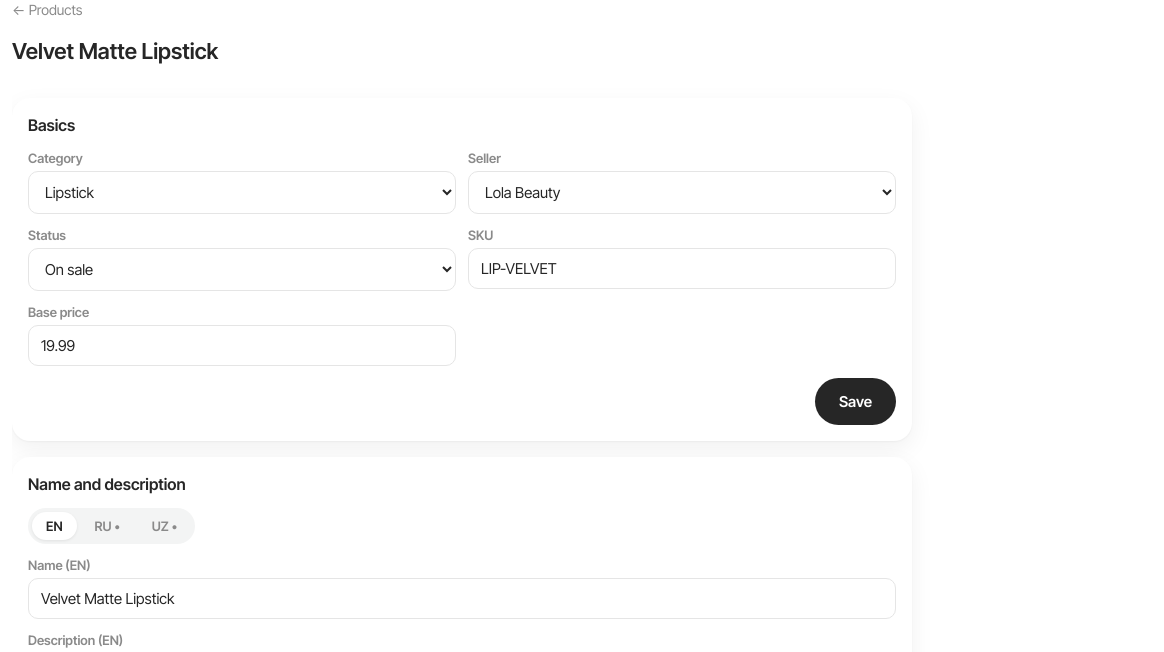
Test: ProductEditorScreen: existing product › sends only the translations that changed, per language
This screenshot has width=1164, height=652.
Click the tab "UZ •" at {"x": 164, "y": 526}, box top-left (138, 512), bottom-right (191, 540)
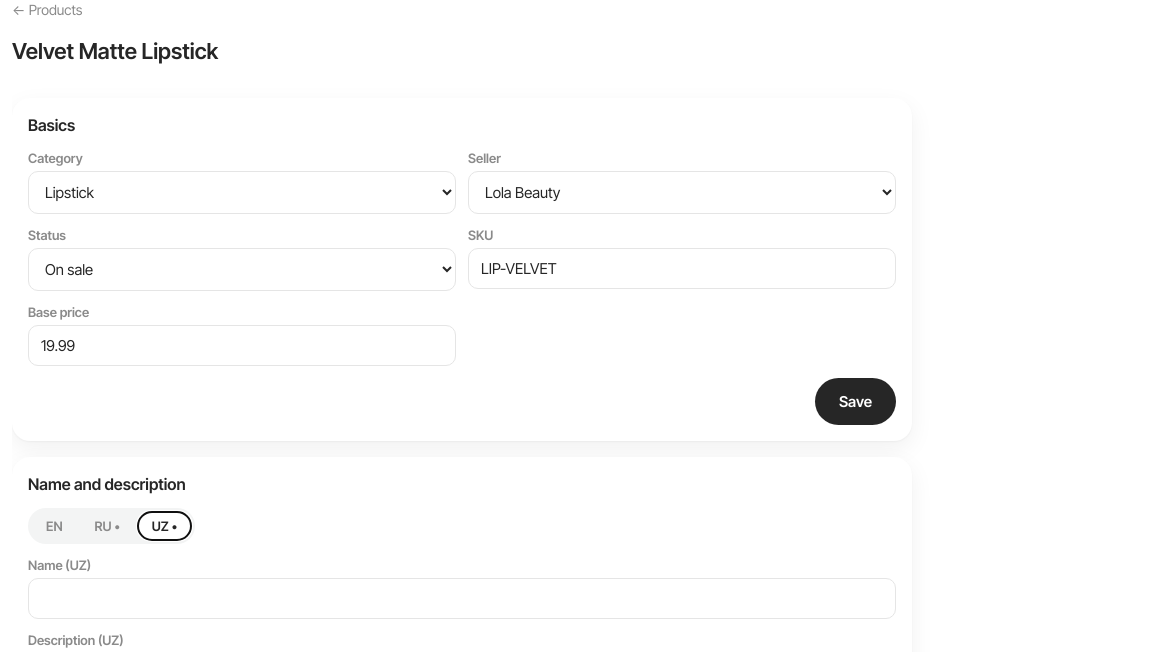
Type "Baxmal pomada" into the field labelled "Name (UZ)" at {"x": 462, "y": 598}, box top-left (28, 578), bottom-right (896, 619)
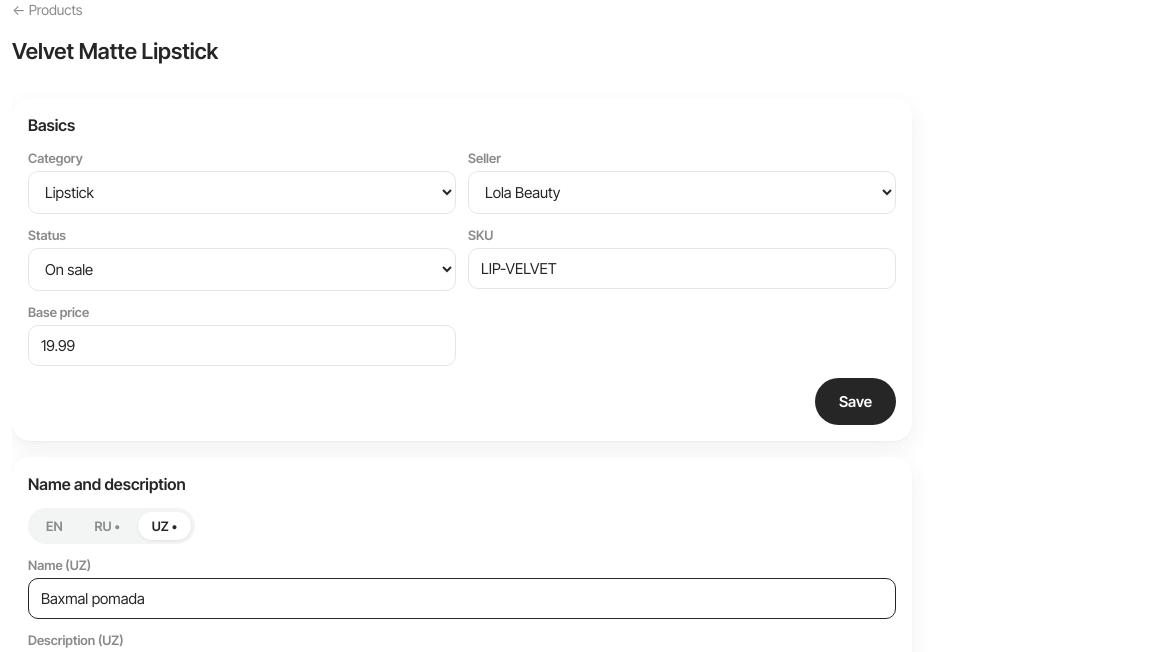
Click the tab "EN" at {"x": 54, "y": 526}, box top-left (32, 512), bottom-right (77, 540)
(page scrolled)
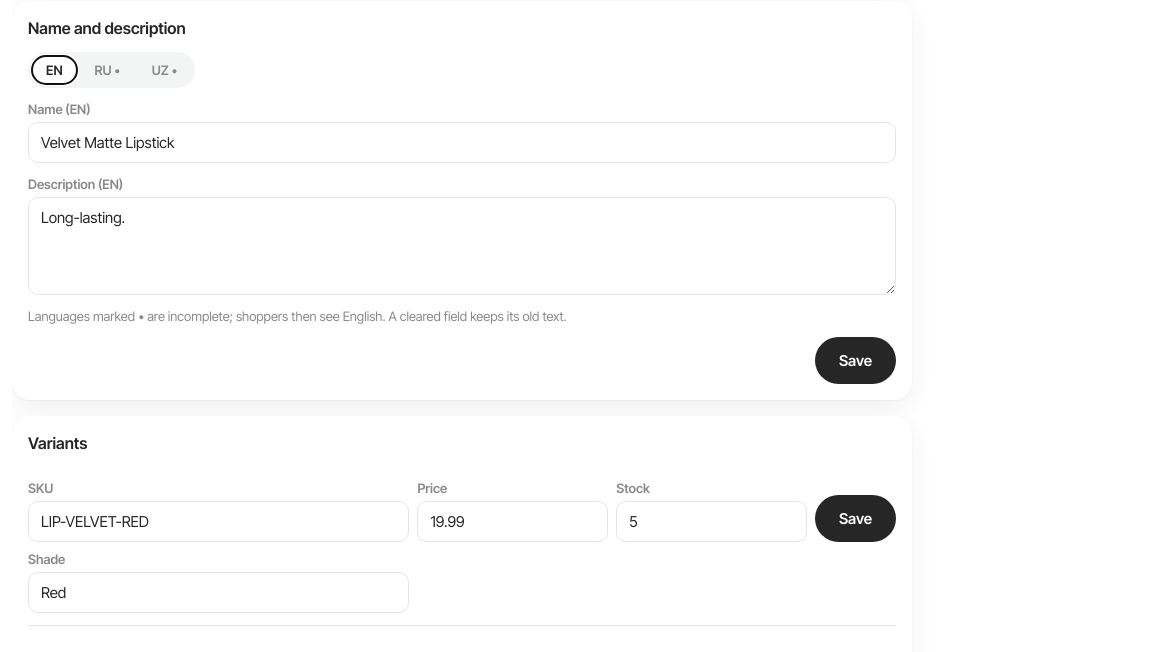
Now the field labelled "Name (EN)" holds "Velvet Matte Lipstick", box top-left (28, 122), bottom-right (896, 163)
Click the 1st button "Save" at {"x": 855, "y": 361}, box top-left (815, 337), bottom-right (896, 384)
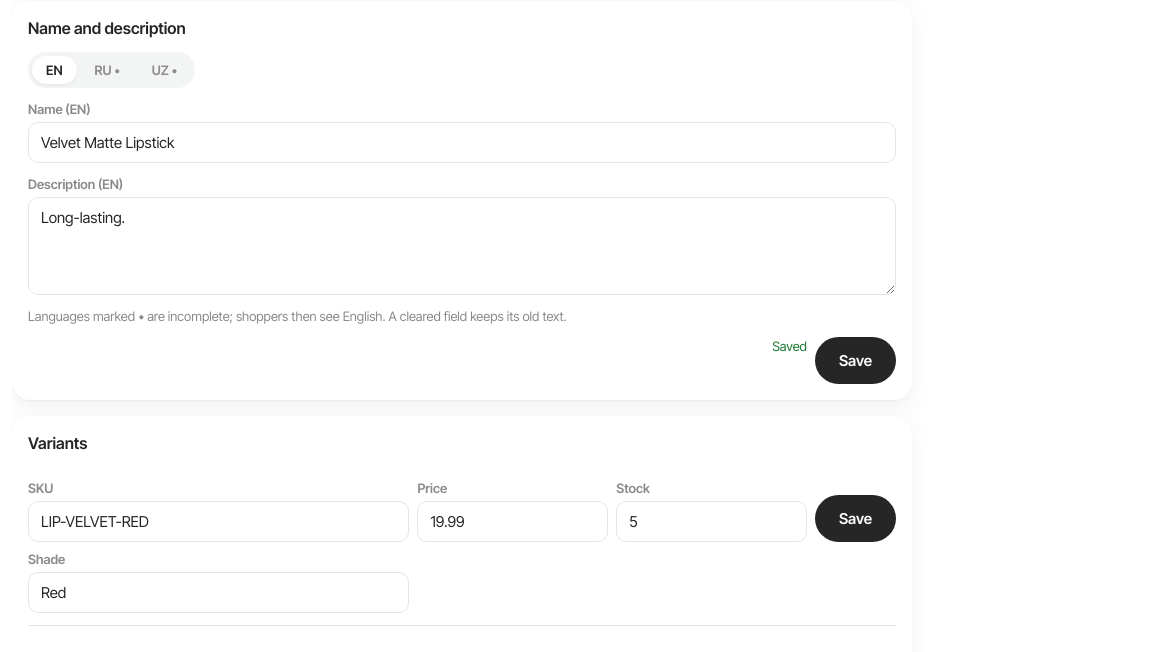
Now the text "Saved" is shown, box top-left (772, 338), bottom-right (807, 354)
